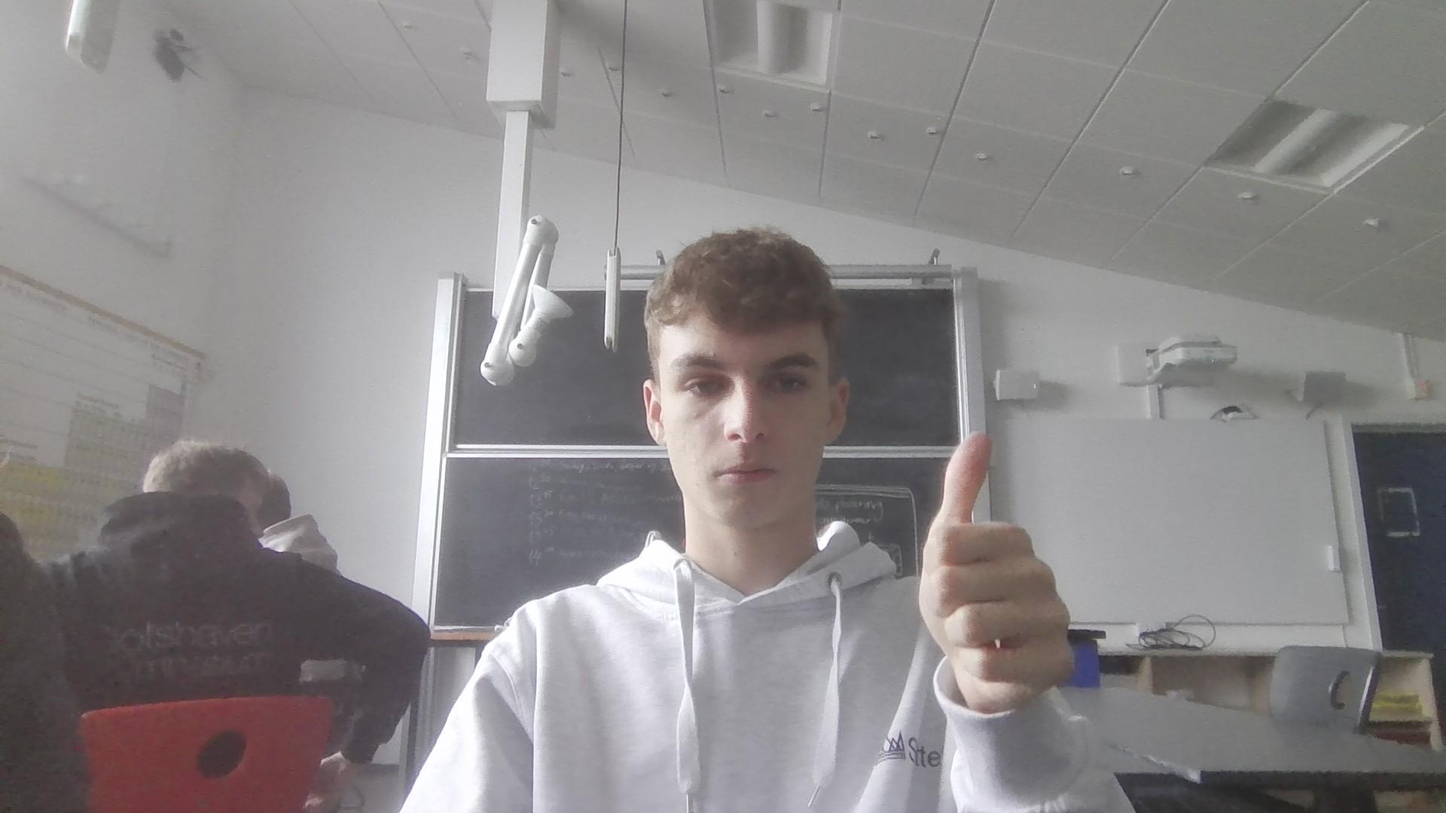thumbs up: (899, 407, 1090, 716)
